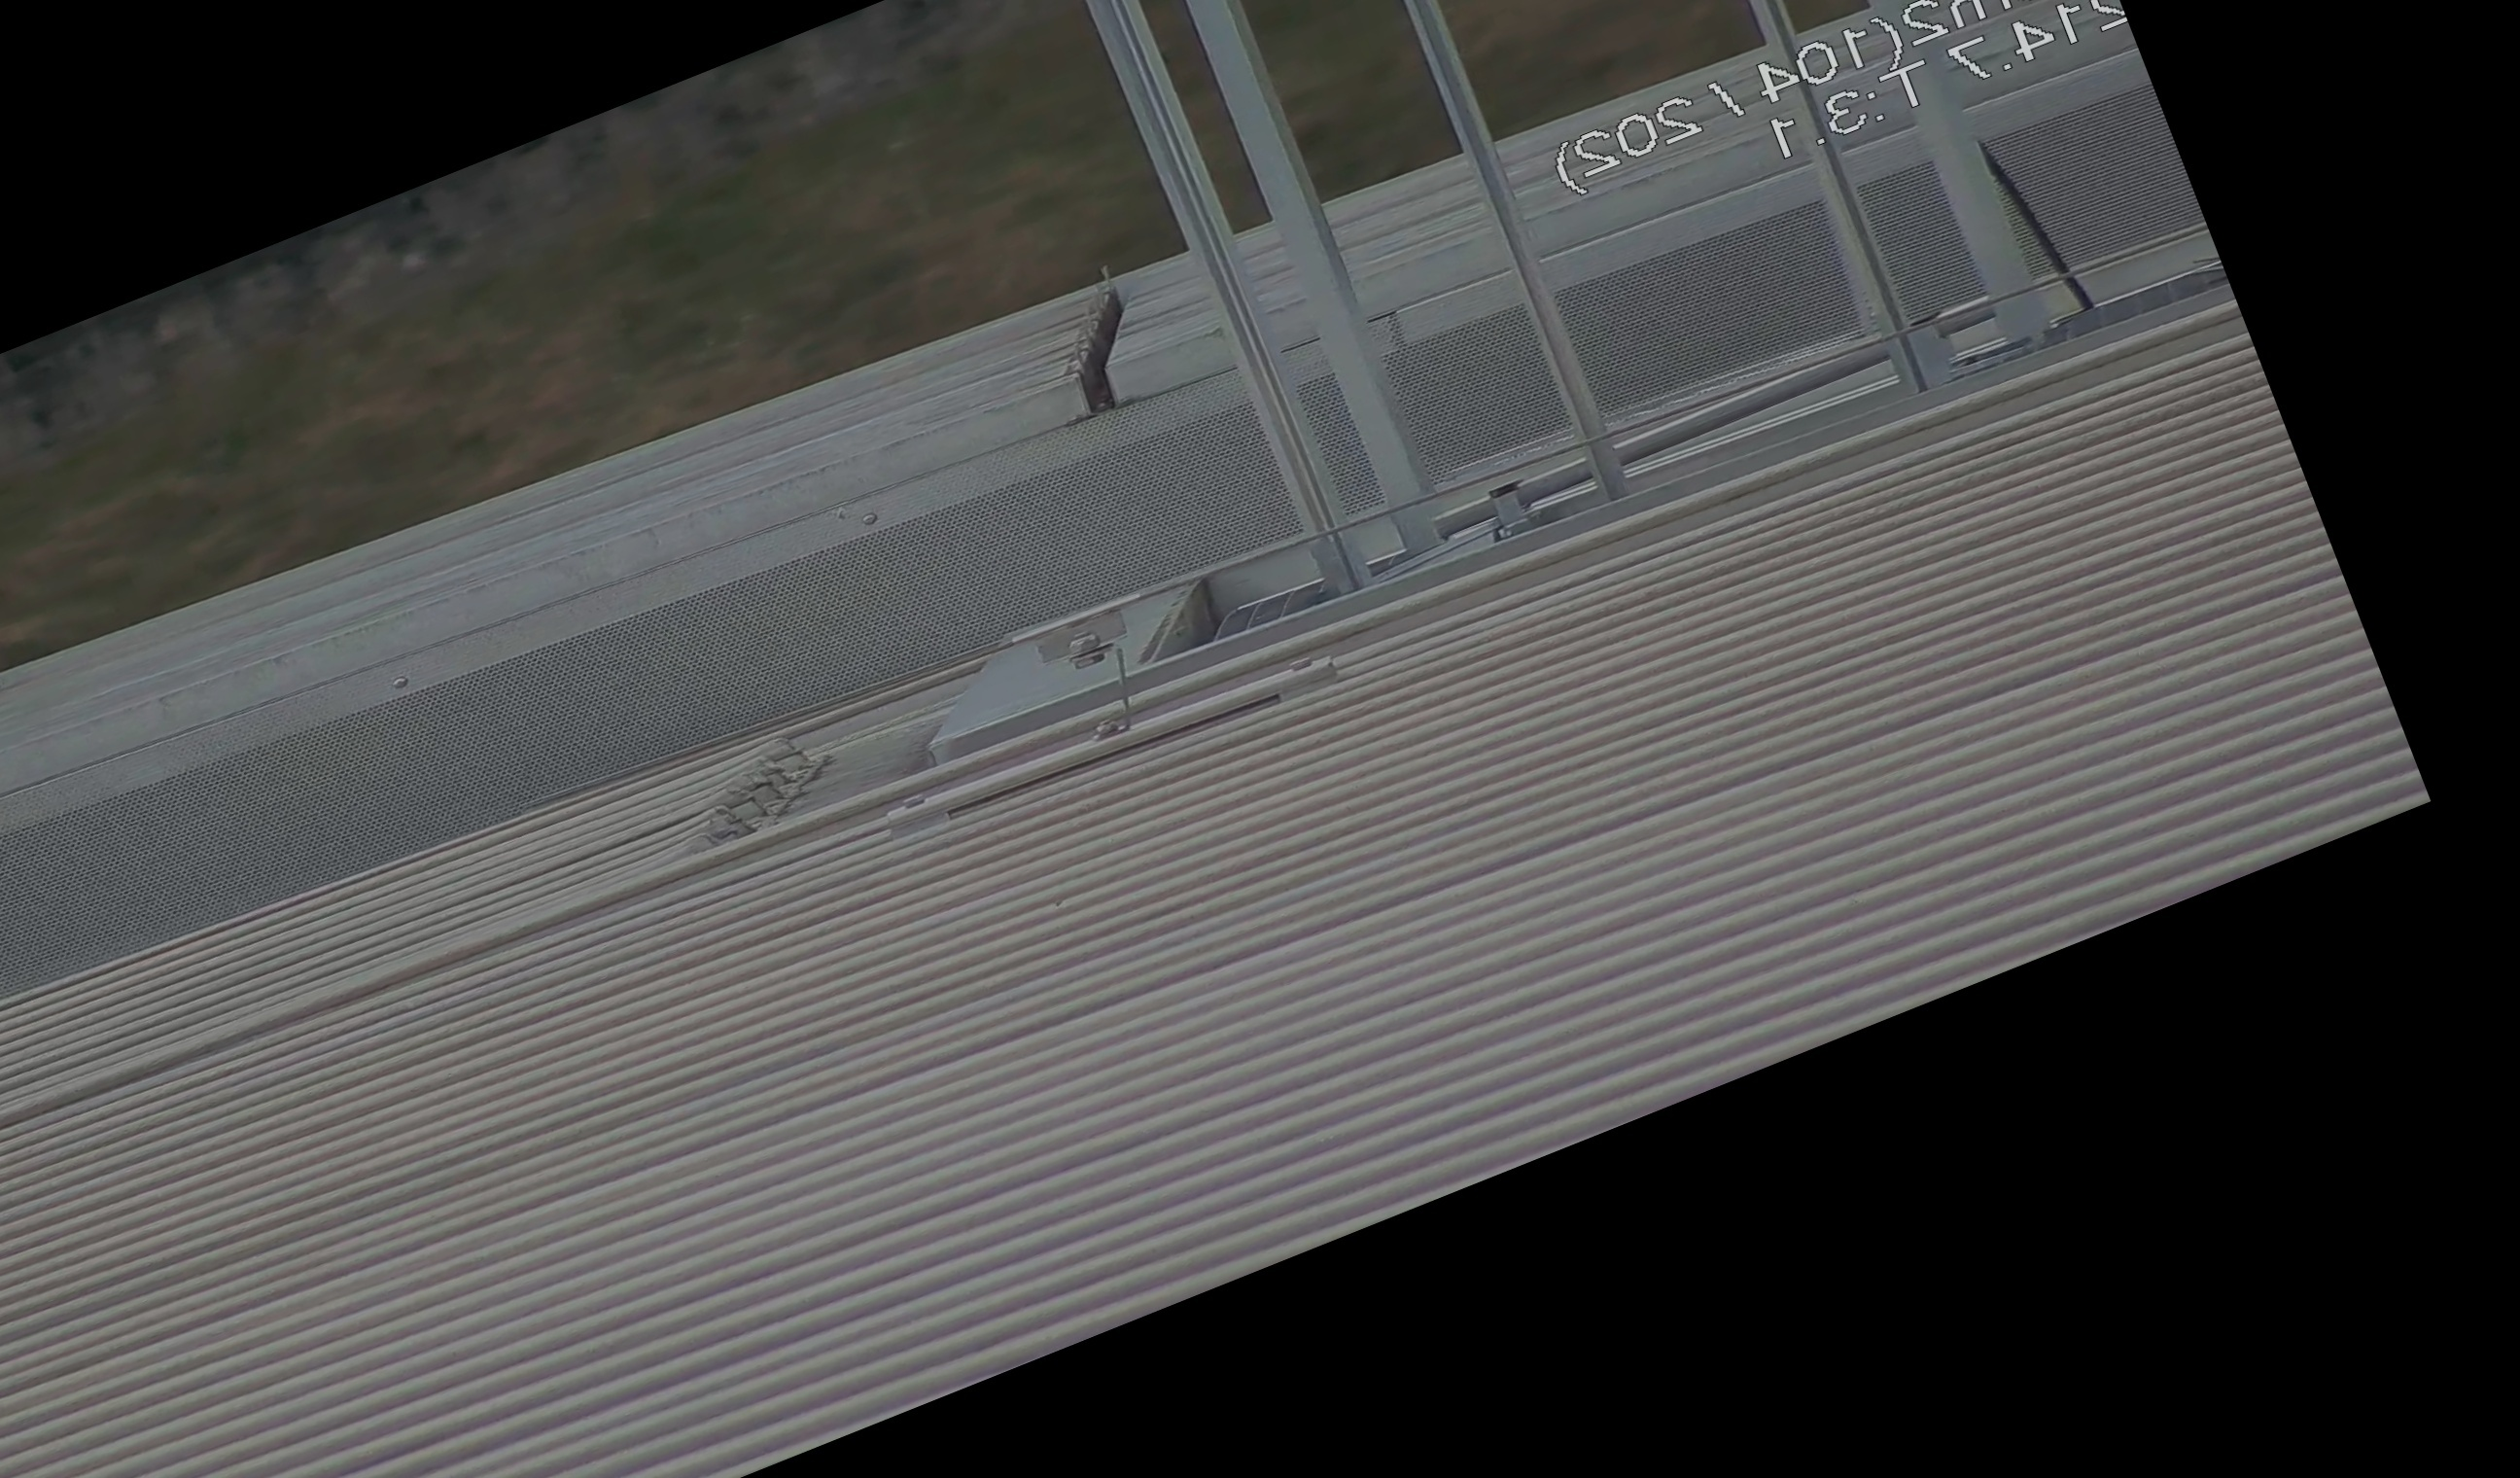Other: (1016, 243, 1185, 428)
